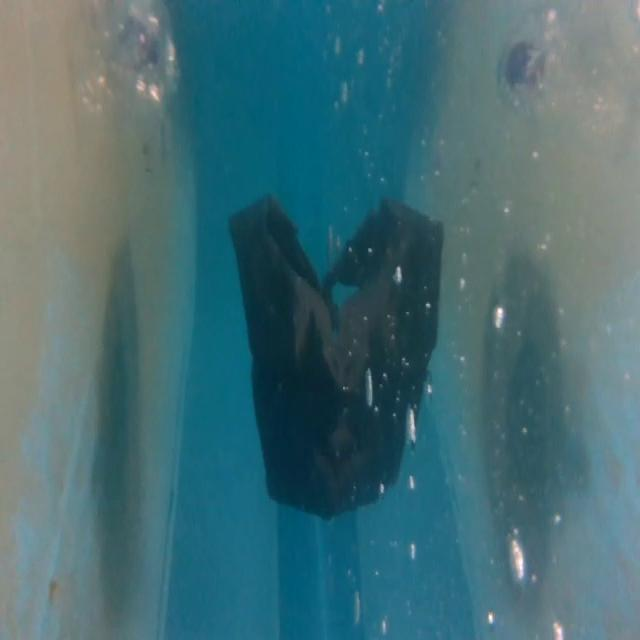plastic bags: (224, 191, 444, 526)
